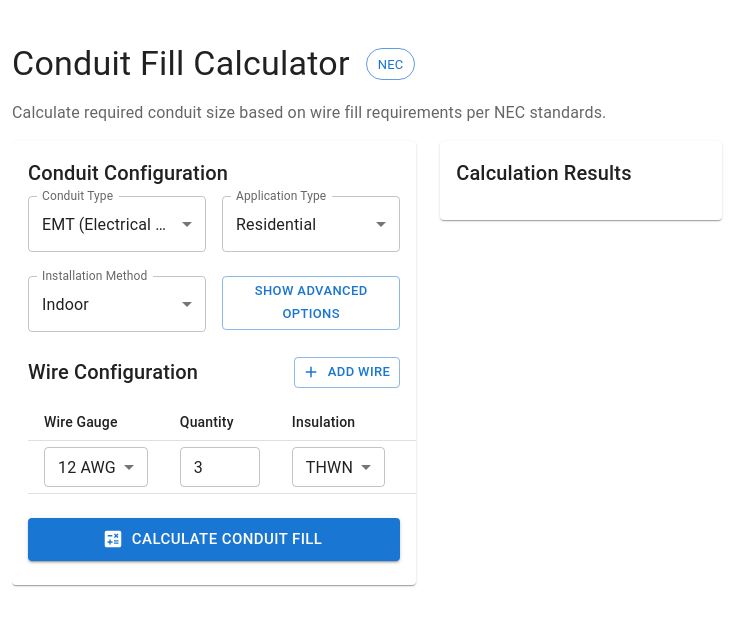
Test: ConduitFillCalculator › Enhanced Controls › should hide advanced options when toggled off
The image size is (744, 636).
Step 1. Click the button with test id "advanced-options-toggle" → (311, 303), box [222,276,400,330]
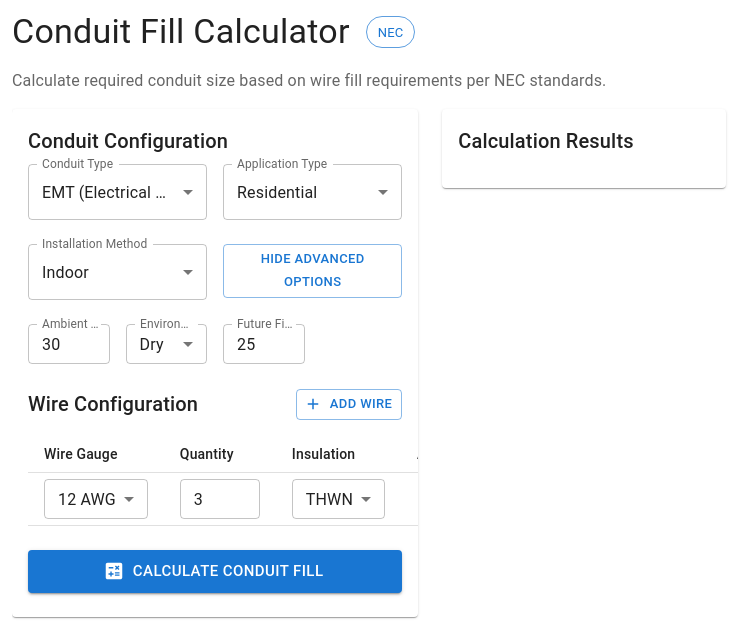
Step 2. Click the button with test id "advanced-options-toggle" → (313, 271), box [223,244,402,298]
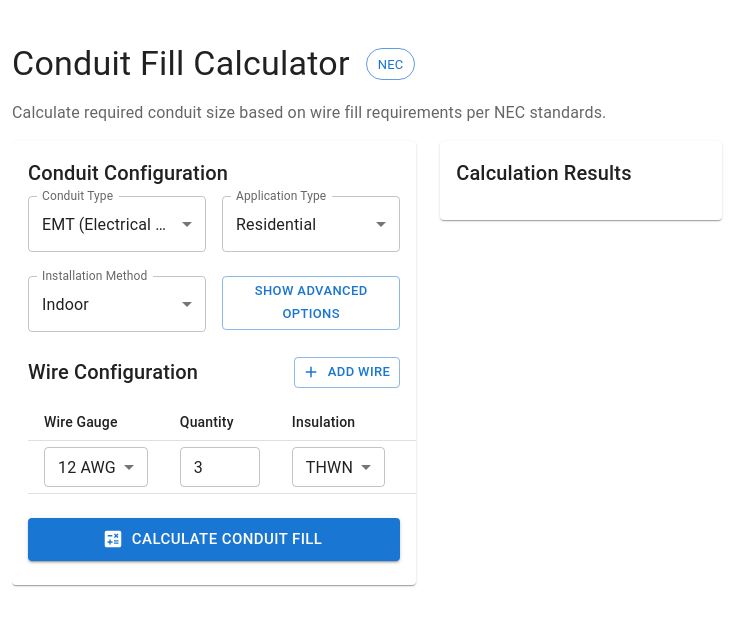
Check: the element with test id "ambient-temperature-input" is gone
